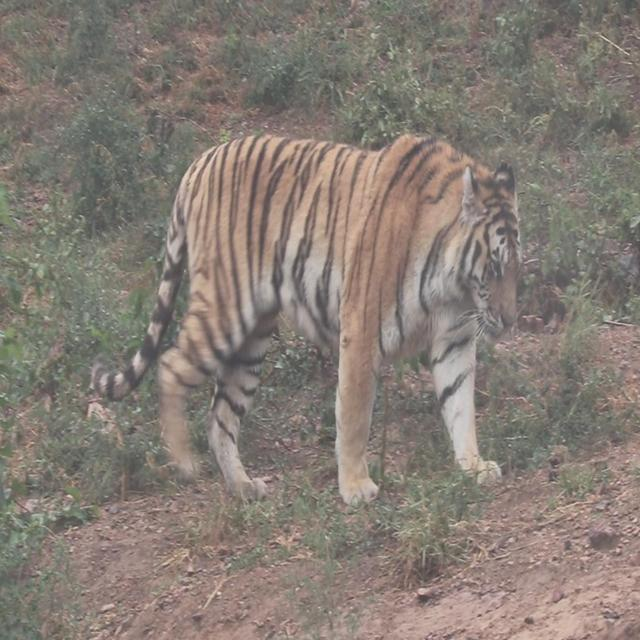tiger: (89, 130, 522, 507)
